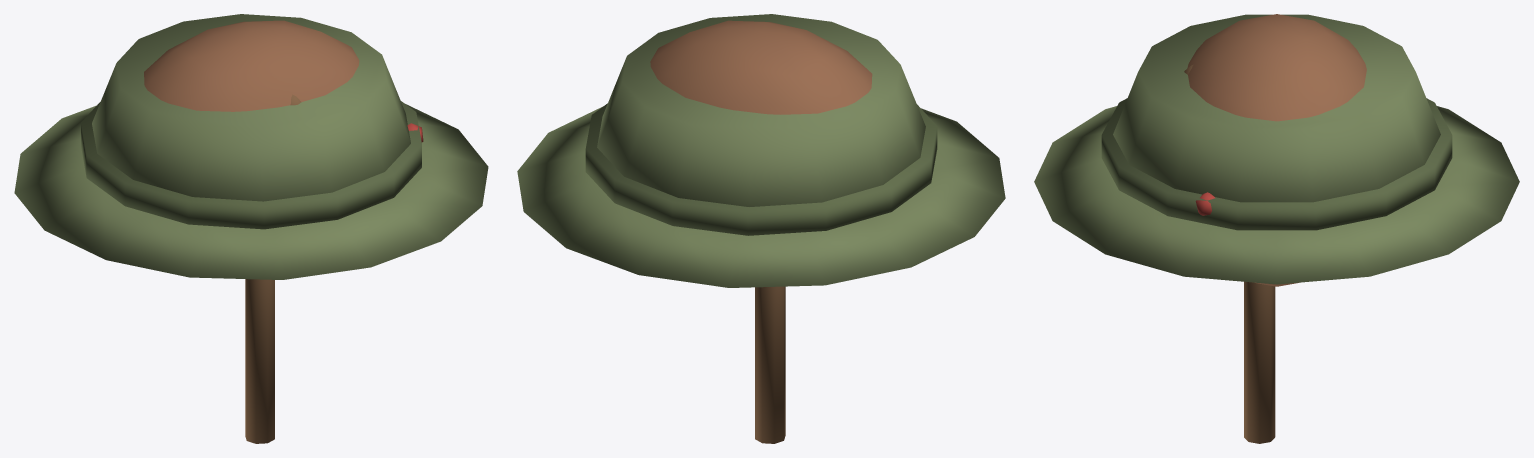
The model's file is outfit.elder.glb.
3 views of the same model, side by side, from view 1: azimuth 30°, elevation 25°; view 2: azimuth 150°, elevation 25°; view 3: azimuth 270°, elevation 25° (orthographic). The views are drawn at different scales.
Visible parts, largest first — view 1: fishing_hat, woolly_vest, walking_stick; view 2: fishing_hat, woolly_vest, walking_stick; view 3: fishing_hat, woolly_vest, walking_stick.
Part boxes in pixels (bbox=[...]): fishing_hat: bbox=[14, 14, 488, 279]; woolly_vest: bbox=[144, 20, 359, 111]; walking_stick: bbox=[245, 94, 301, 443]; fishing_hat: bbox=[517, 14, 1005, 287]; woolly_vest: bbox=[650, 20, 872, 114]; walking_stick: bbox=[755, 286, 785, 443]; fishing_hat: bbox=[1034, 14, 1519, 284]; woolly_vest: bbox=[1187, 14, 1366, 286]; walking_stick: bbox=[1184, 64, 1275, 443].
Bounding box in the file's own units: 0.56 × 0.517 × 0.56.
